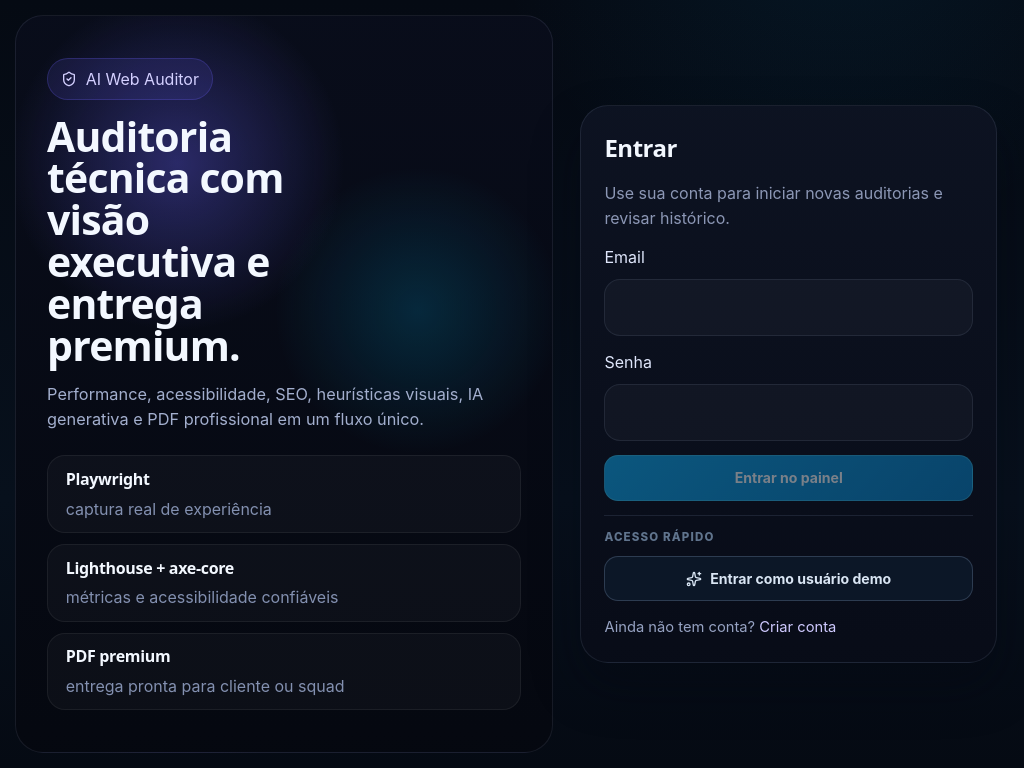
it: login exibe Não foi possível conectar ao servidor. Tente novamente em instantes. e libera novo envio
Type "usuario@gmail.com" into the field labelled "Email". click: point(789, 307)
box: [604, 279, 973, 336]
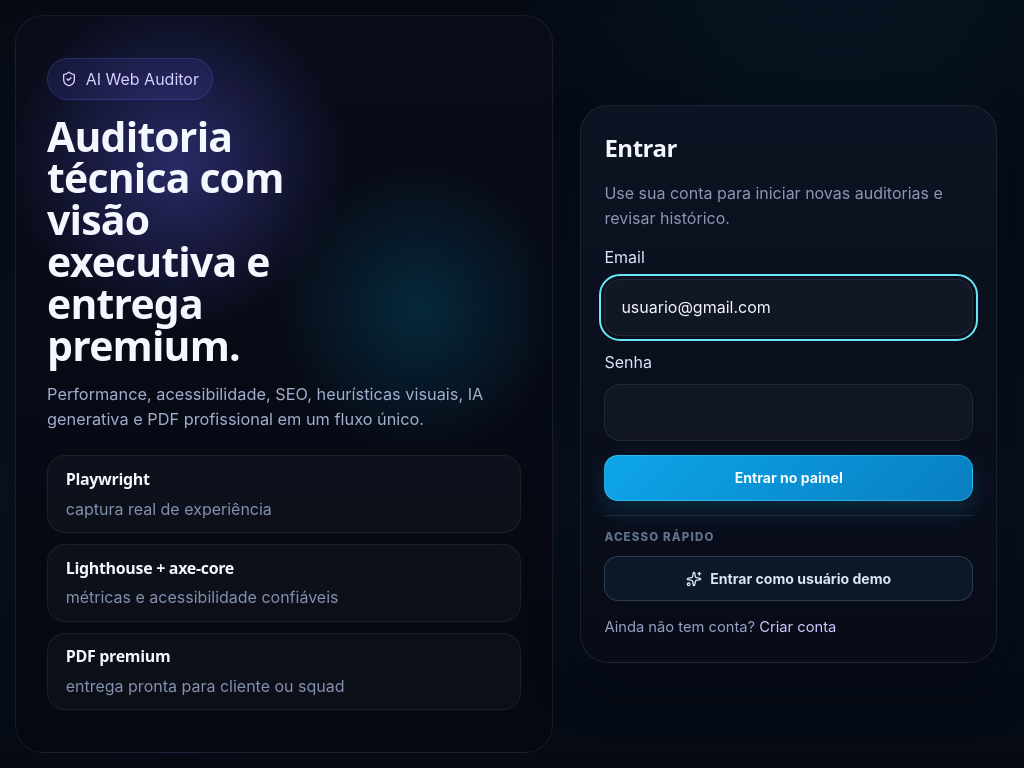
Type "12345678" into the password field labelled "Senha". click: point(789, 412)
box: [604, 384, 973, 441]
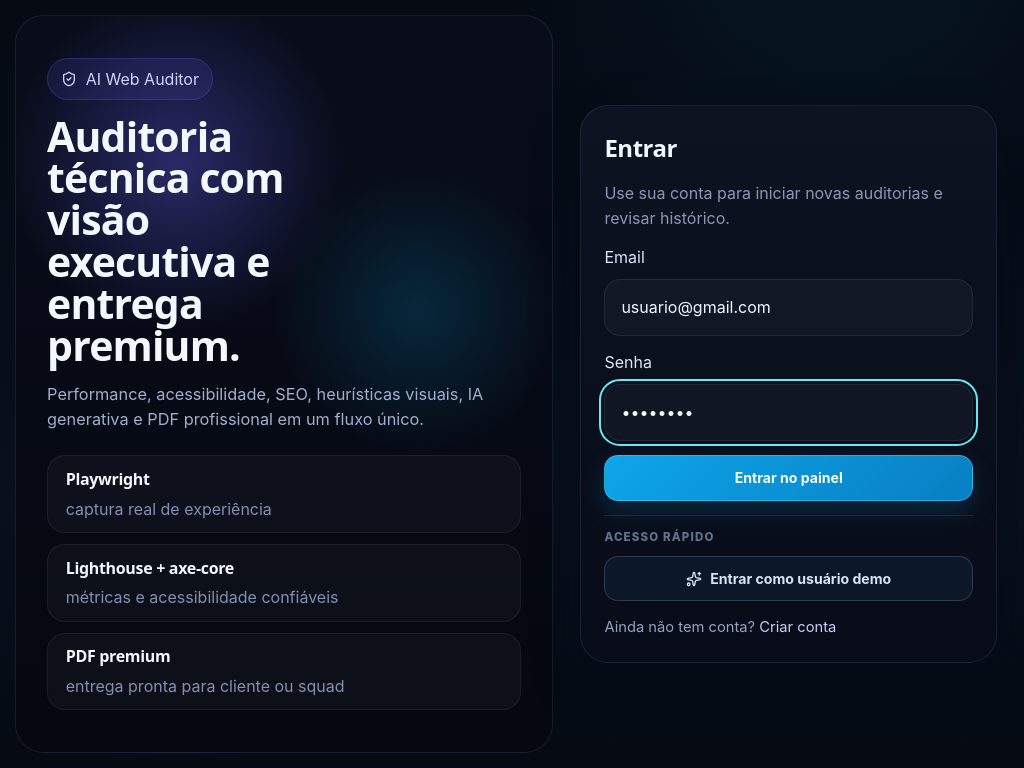
Click the button "Entrar no painel". click: point(789, 478)
box: [604, 455, 973, 501]
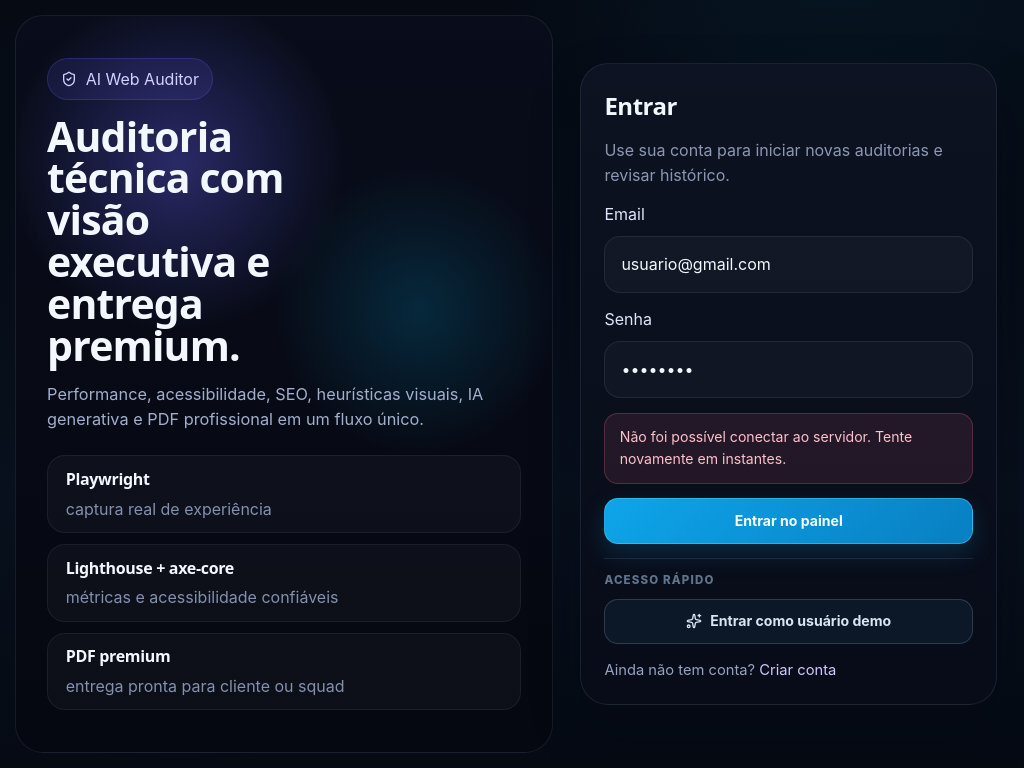
Result: the button "Entrar no painel" is enabled at [604, 498, 973, 544]
Result: the message reads "Não foi possível conectar ao servidor. Tente novamente em instantes." at [620, 428, 912, 467]
